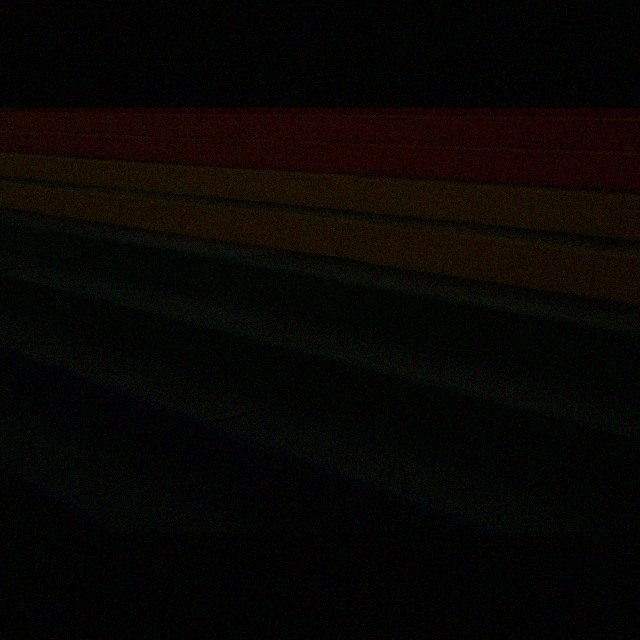stair: (0, 106, 639, 531)
